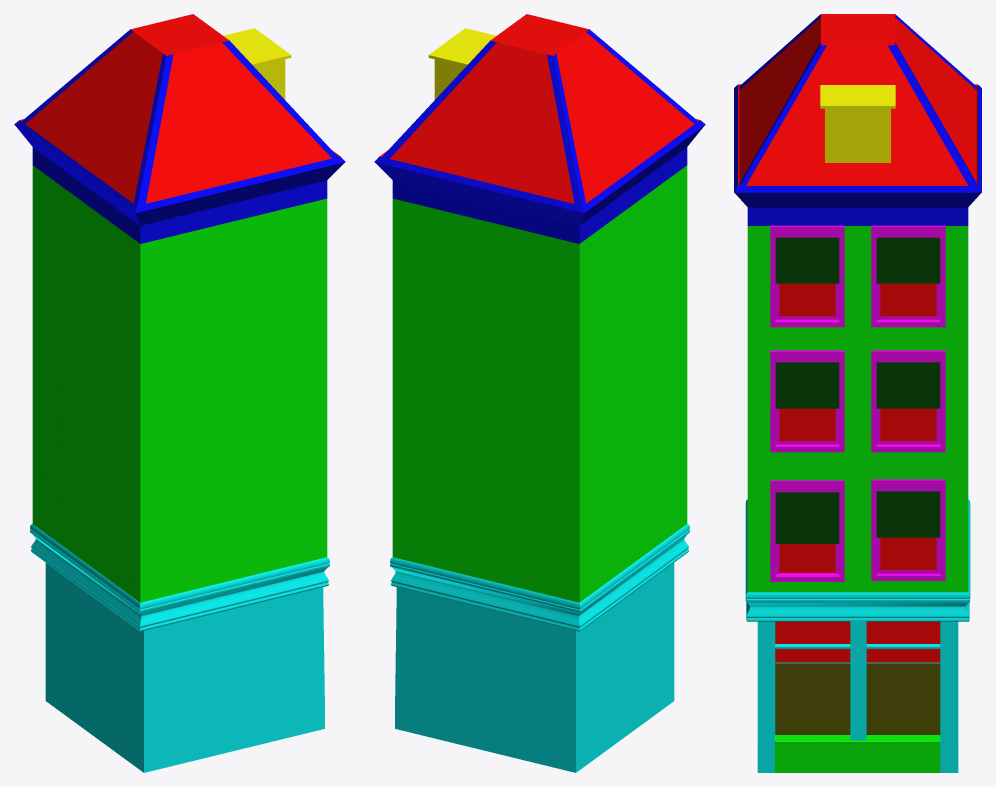
Rendered from huis1_model.obj.
The picture shows the model from 3 angles, left to right: view 1: azimuth 30°, elevation 25°; view 2: azimuth 150°, elevation 25°; view 3: azimuth 270°, elevation 25°; orthographic projection. The views are drawn at different scales.
Parts seen in each view (by area): view 1: polySurface190; view 2: polySurface190; view 3: polySurface190.
Part boxes in pixels (x1,y1,x2,y2): polySurface190: (14, 14, 345, 772); polySurface190: (374, 14, 705, 772); polySurface190: (734, 14, 981, 772).
Size of the model in its own units: 260 by 805 by 260.
